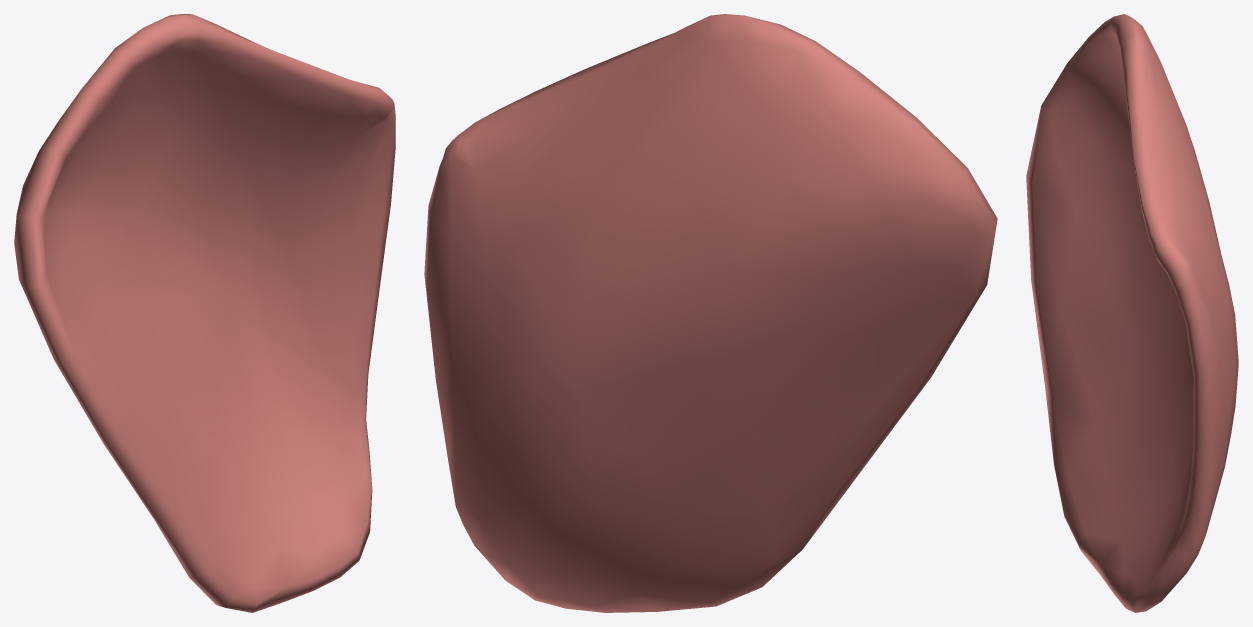
The picture shows the model from 3 angles, left to right: view 1: azimuth 30°, elevation 25°; view 2: azimuth 150°, elevation 25°; view 3: azimuth 270°, elevation 25°; orthographic projection. The views are drawn at different scales.
Visible parts, largest first — view 1: ZA_b02dc67d45ca1436; view 2: ZA_b02dc67d45ca1436; view 3: ZA_b02dc67d45ca1436.
Boxes of the visible parts, bbox=[...] form: ZA_b02dc67d45ca1436: bbox=[14, 14, 395, 612]; ZA_b02dc67d45ca1436: bbox=[424, 14, 997, 612]; ZA_b02dc67d45ca1436: bbox=[1026, 14, 1238, 612].
Size of the model in its own units: 0.00834 by 0.0105 by 0.00395.
